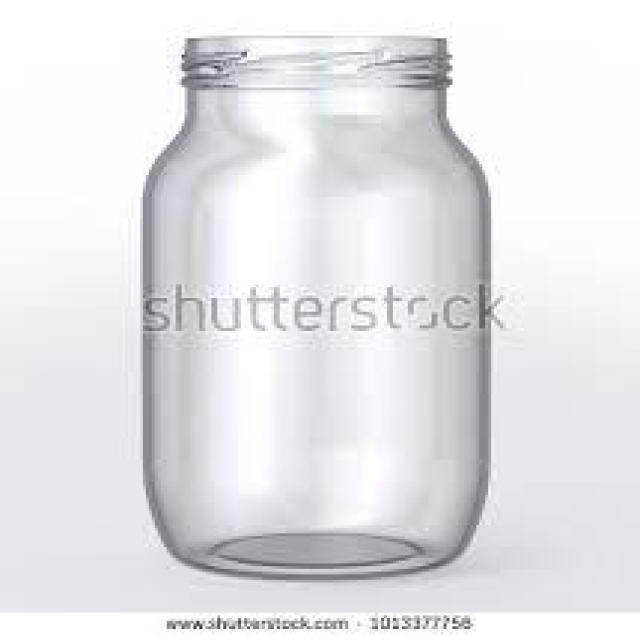Glass: (140, 36, 494, 582)
